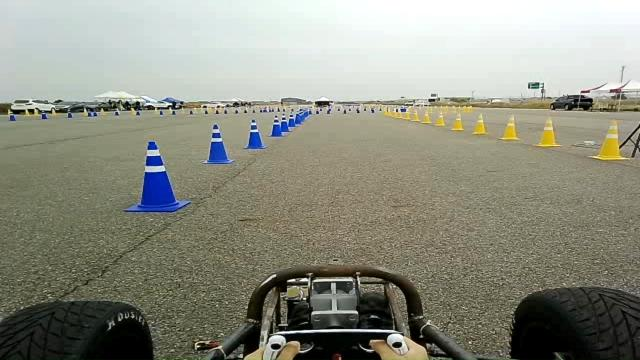blue cone: (123, 140, 191, 212), (201, 124, 234, 164), (242, 118, 267, 150), (269, 116, 284, 137), (9, 114, 16, 121), (41, 112, 47, 119), (67, 112, 72, 118)
yellow cone: (589, 120, 629, 161), (532, 116, 562, 147), (498, 115, 520, 140), (470, 113, 489, 134), (450, 112, 464, 131), (434, 112, 445, 126), (421, 111, 431, 123), (410, 110, 420, 121), (392, 109, 402, 118), (382, 107, 390, 116), (402, 112, 410, 120), (395, 111, 402, 118)
